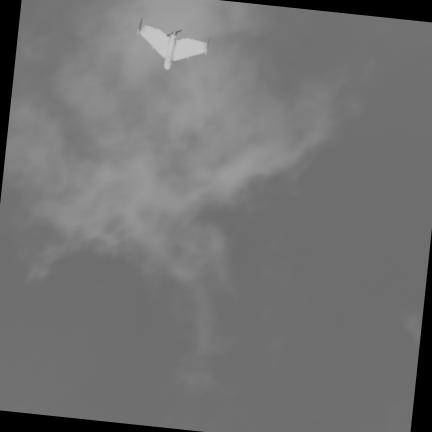Shahed: (137, 20, 208, 68)
